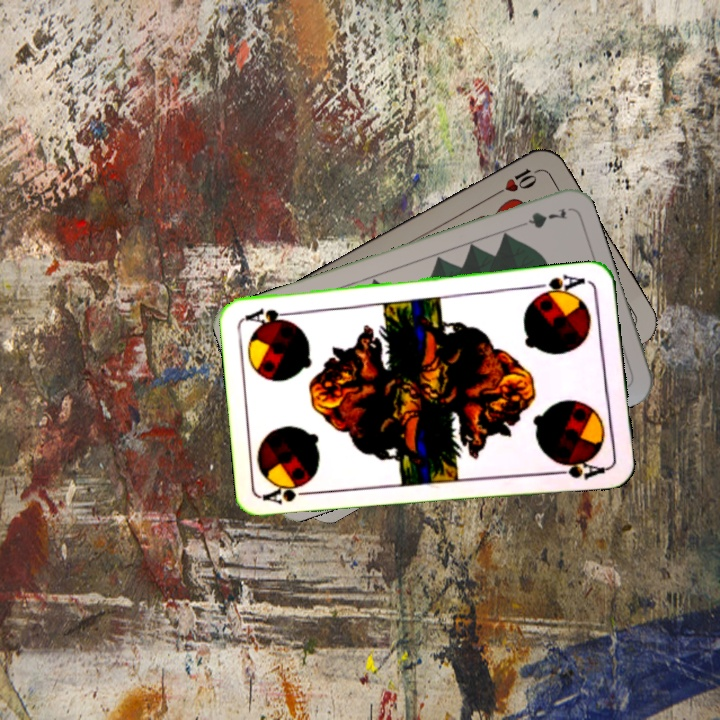G7: (511, 204, 569, 231)
H10: (489, 164, 543, 199)
SA: (532, 270, 591, 300), (260, 482, 320, 508)
